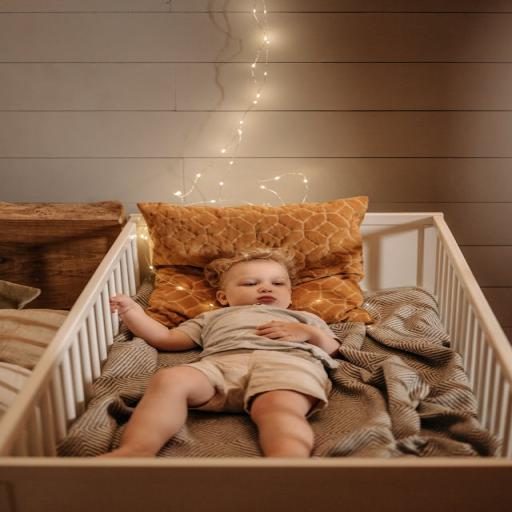baby: (102, 249, 339, 457)
crib: (0, 214, 511, 511)
